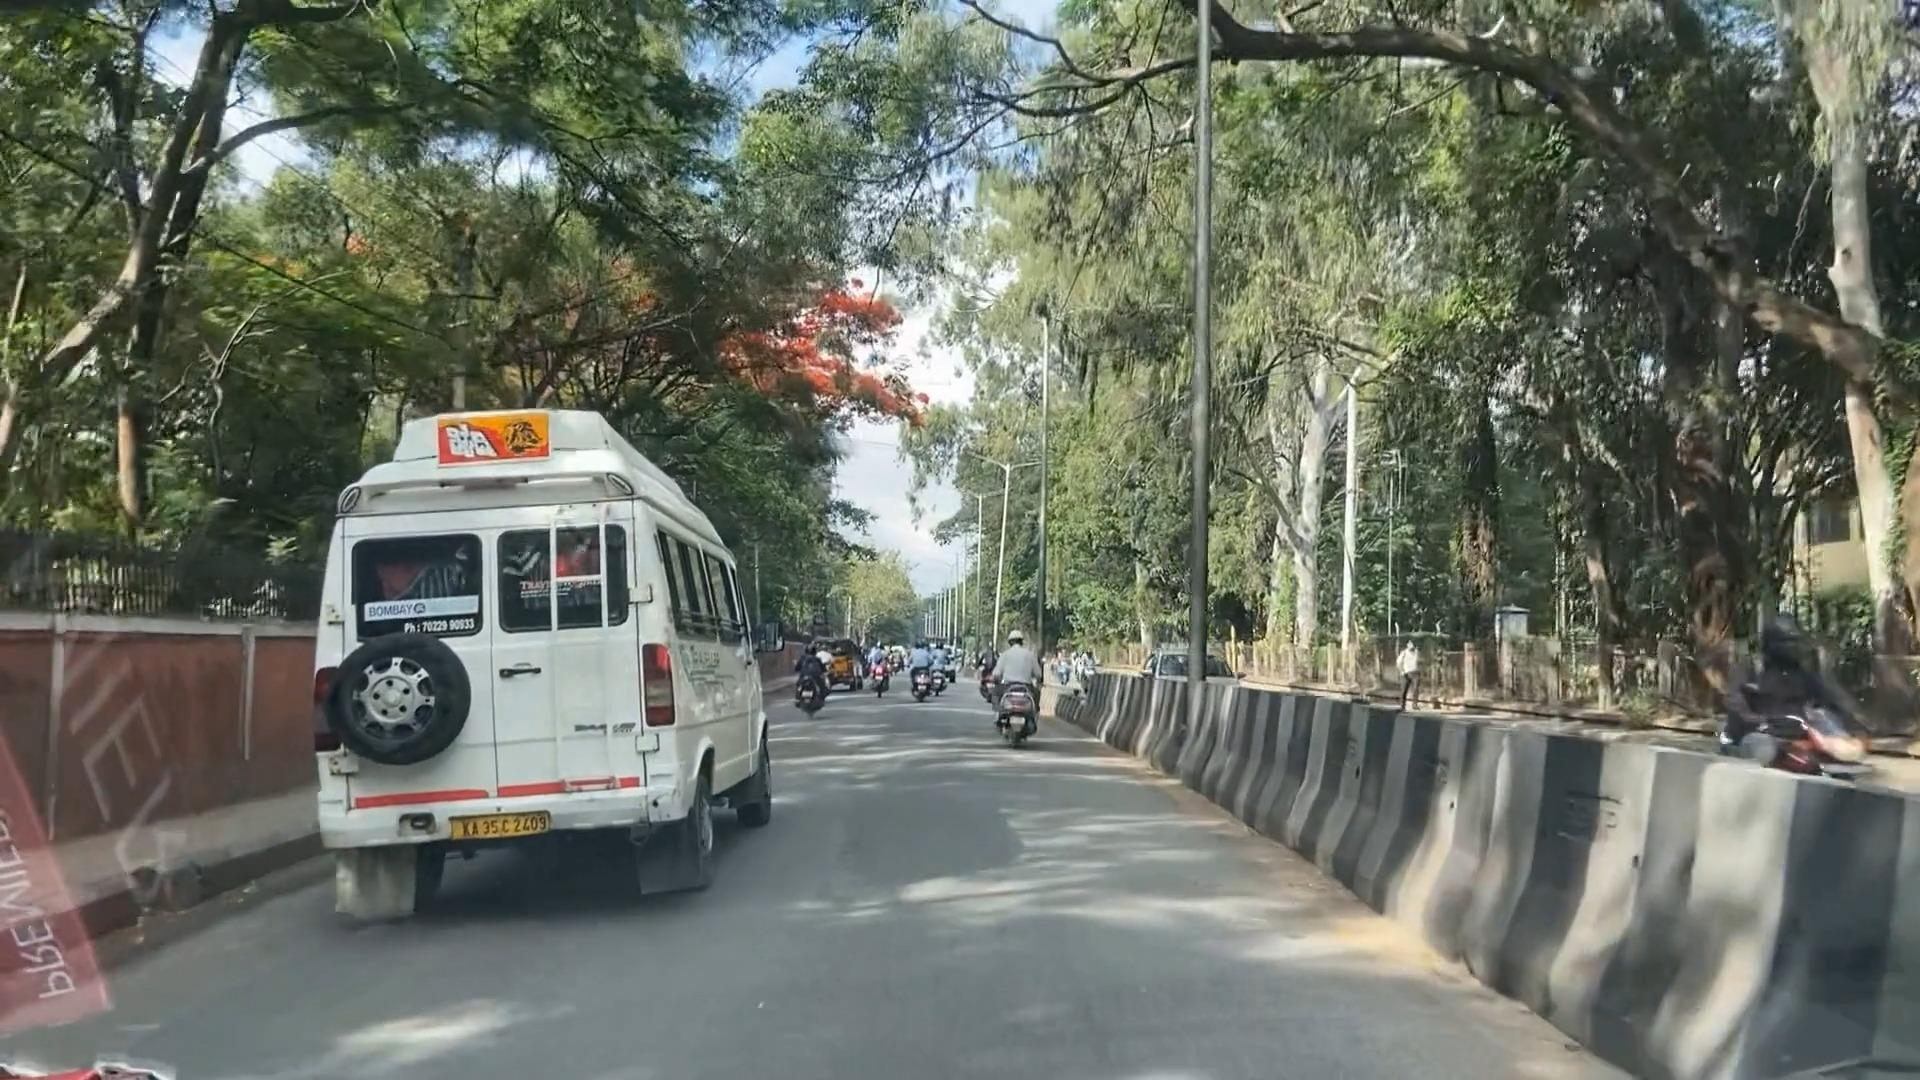HMV: (324, 468, 688, 887)
LMV: (1002, 628, 1039, 741), (794, 642, 829, 720), (905, 630, 932, 699)
